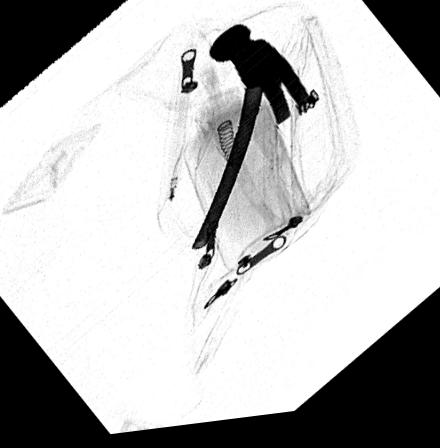Hammer: (190, 29, 310, 255)
